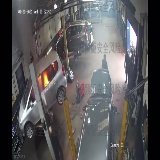fire: (38, 65, 56, 92)
